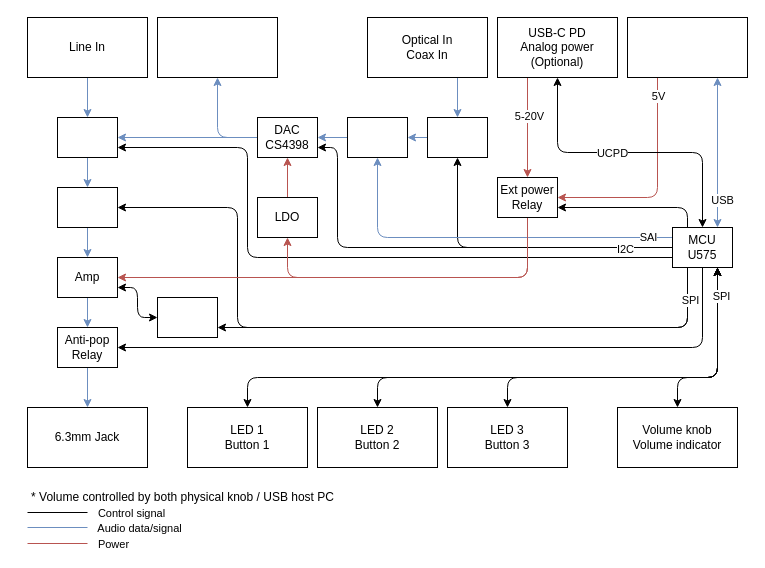
This 765x568 diagram has some shape labels left out. Each missing label, with the box of its shape:
Gain µPot: (156, 296, 218, 338)
Line Out: (156, 16, 278, 78)
Mux: (346, 116, 408, 158)
SPDIF CS8416: (426, 116, 488, 158)
Src select Relay: (56, 116, 118, 158)
USB-C Digital power / USB Audio: (626, 16, 748, 78)
Volume µPot*: (56, 186, 118, 228)
